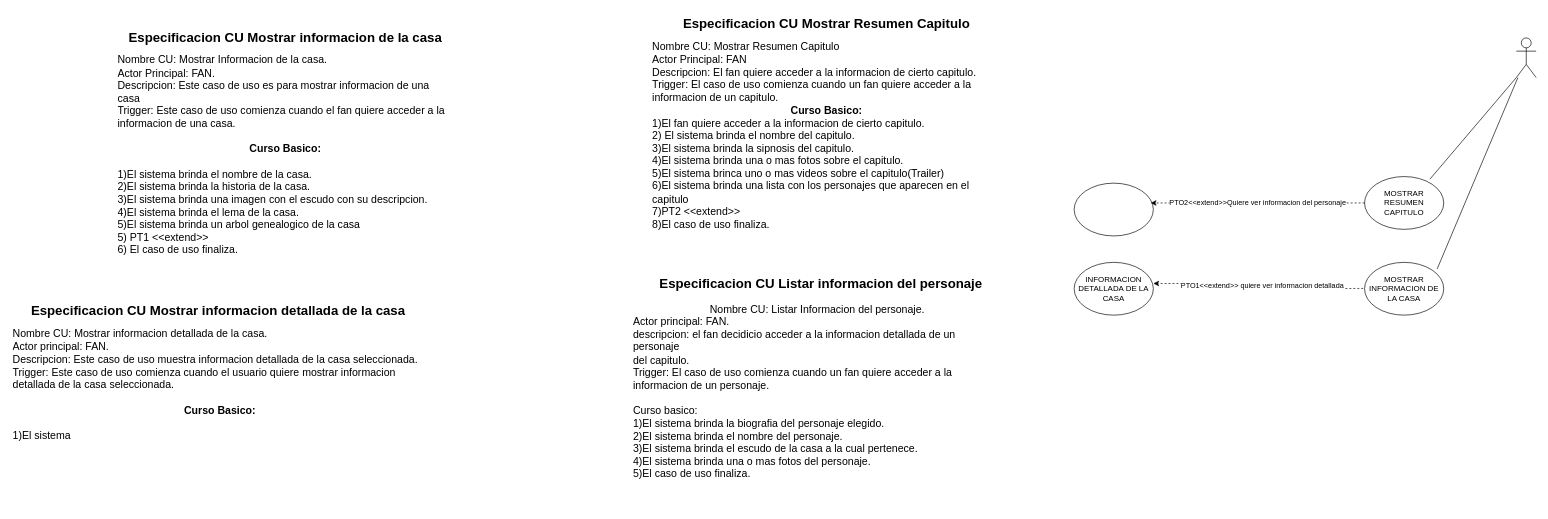
The diagram is 1548 pixels wide and 519 high, and some of its shapes have lost their labels. The shapes that lost their labels are listed below. From the top down, each one's box as (x1, y1, x2, y2) in pixels, then its label:
(1516, 37, 1536, 78): FAN
(1073, 182, 1153, 236): LISTAR INFORMACION DEL PERSONAJE
